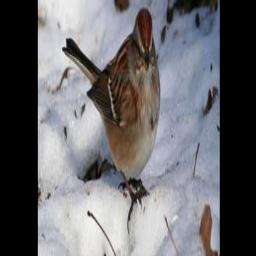Sparrow: (60, 0, 161, 238)
